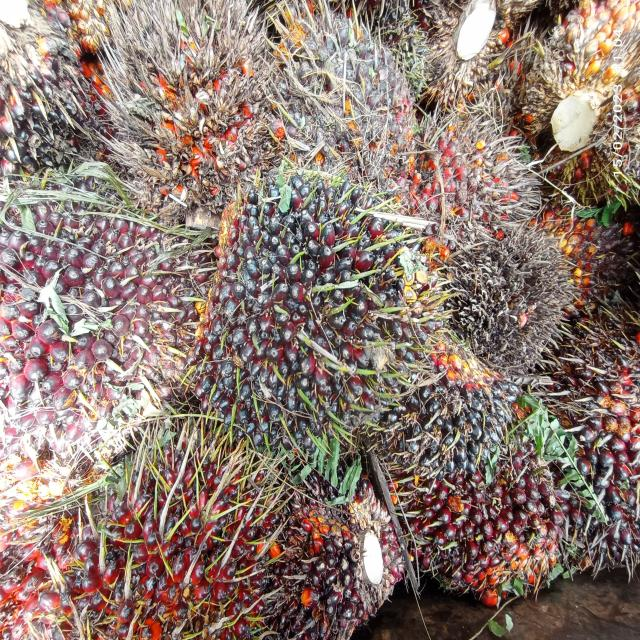fraksi 00: (397, 318, 515, 526)
fraksi 1: (0, 370, 293, 640), (174, 163, 436, 451), (0, 179, 216, 475), (425, 403, 602, 640)
fraksi 4: (92, 0, 302, 197)
